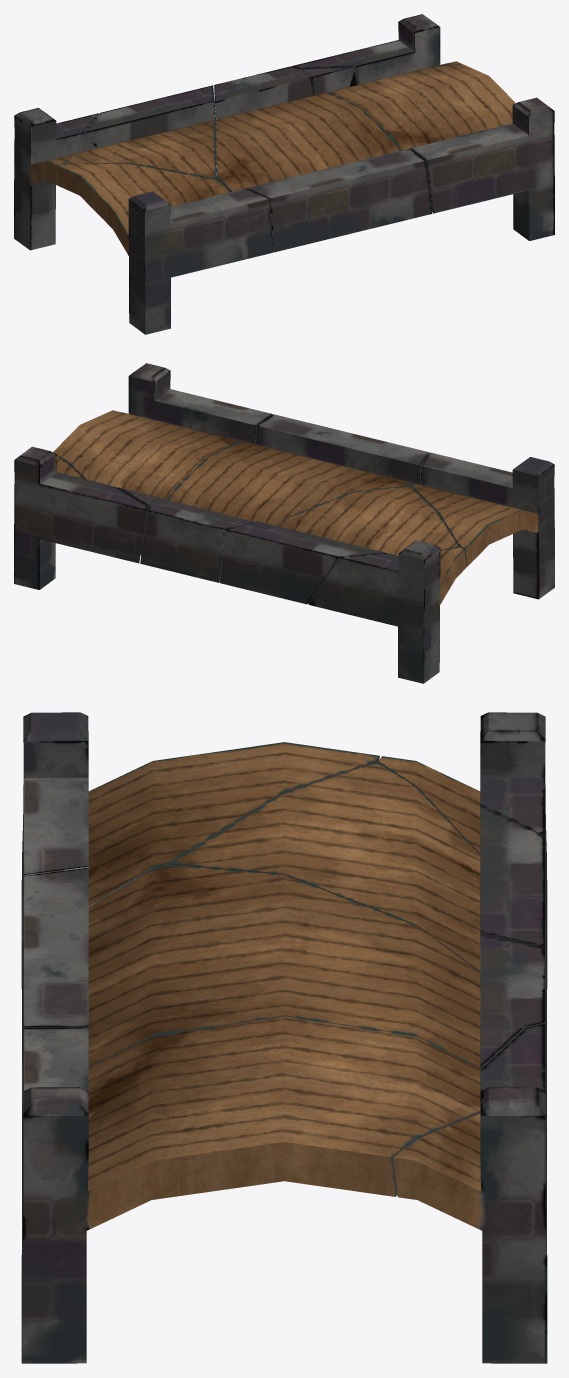
The model's file is AnimPont.fbx.
3 views of the same model, one above another, from view 1: azimuth 30°, elevation 25°; view 2: azimuth 150°, elevation 25°; view 3: azimuth 270°, elevation 25° (orthographic). The views are drawn at different scales.
Parts seen in each view (by area): view 1: pont_cell.002, pont_cell, pont_cell.001, pont_cell.004, pont_cell.003, pont_cell.005; view 2: pont_cell.002, pont_cell, pont_cell.004, pont_cell.001, pont_cell.005, pont_cell.003; view 3: pont_cell, pont_cell.002, pont_cell.004, pont_cell.001, pont_cell.005, pont_cell.003.
Boxes of the visible parts, x1,y1,x2,y2 form: pont_cell.002: [214, 66, 432, 252]; pont_cell: [301, 64, 554, 240]; pont_cell.001: [56, 163, 272, 334]; pont_cell.004: [63, 85, 216, 179]; pont_cell.003: [14, 108, 99, 250]; pont_cell.005: [291, 14, 461, 84]; pont_cell.002: [140, 414, 428, 582]; pont_cell: [53, 363, 272, 554]; pont_cell.004: [220, 486, 459, 604]; pont_cell.001: [411, 452, 554, 599]; pont_cell.005: [14, 446, 147, 589]; pont_cell.003: [308, 540, 466, 683]; pont_cell: [21, 1016, 523, 1363]; pont_cell.002: [22, 864, 546, 1131]; pont_cell.004: [169, 762, 546, 1050]; pont_cell.001: [21, 712, 379, 988]; pont_cell.005: [393, 1023, 547, 1363]; pont_cell.003: [378, 712, 547, 988].
Bounding box in the file's own units: 51.34 × 15.26 × 28.52.
